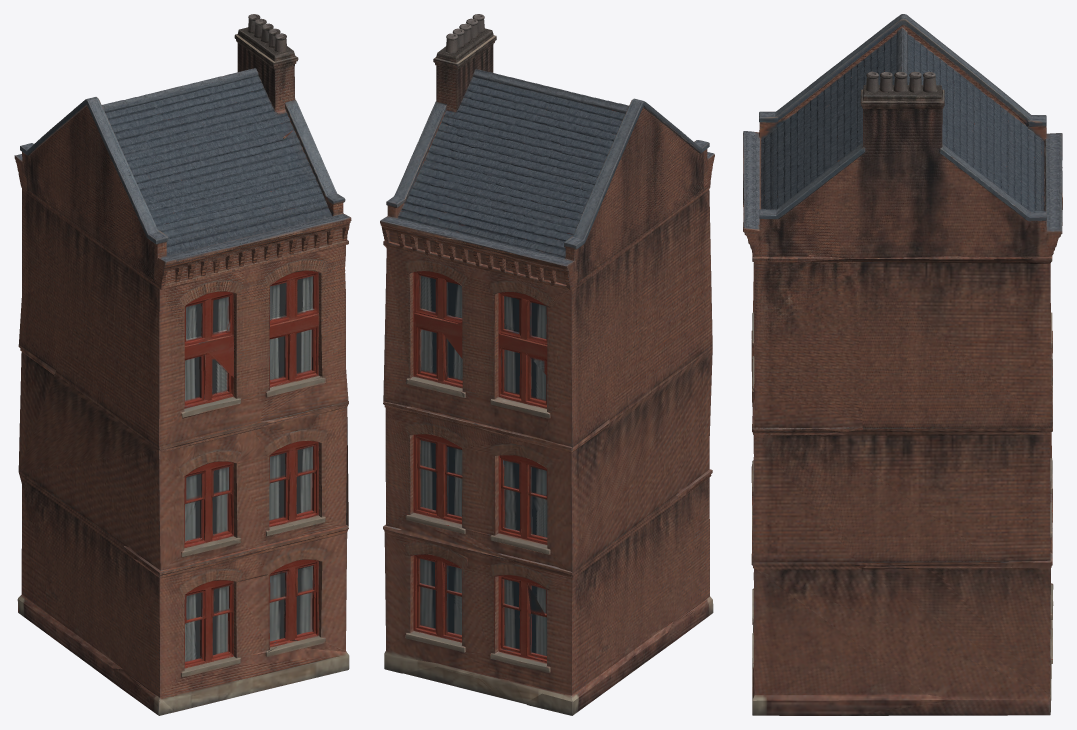
Rendered from colony_house_c1_tall.glb.
3 renders of one model, left to right at view 1: azimuth 30°, elevation 25°; view 2: azimuth 150°, elevation 25°; view 3: azimuth 270°, elevation 25°, orthographic. The views are drawn at different scales.
Size of the model in its own units: 0.6423 by 1.9 by 0.8672.
1 material, 1 textured.
